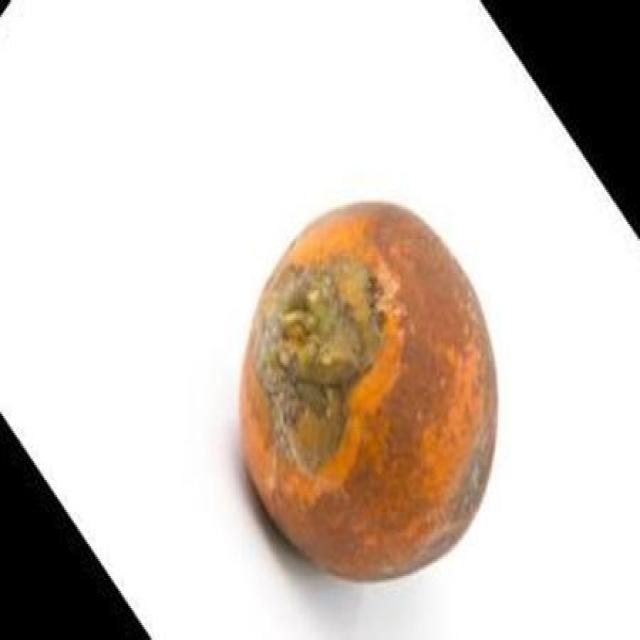good: (240, 203, 498, 582)
